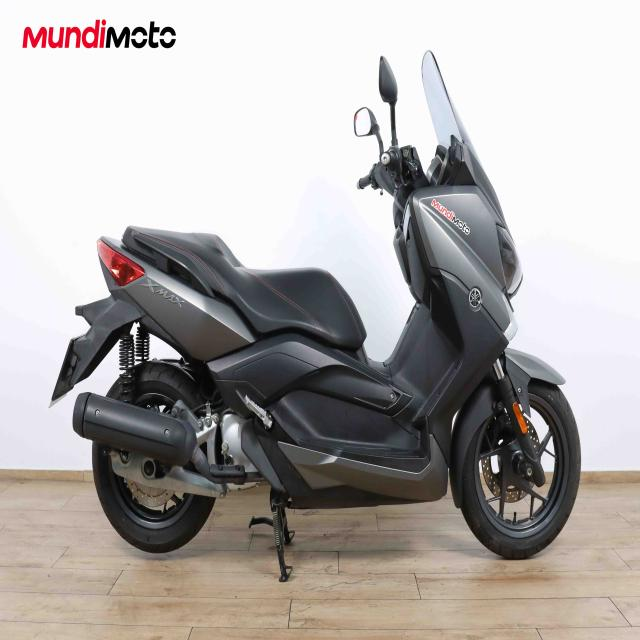Motorcycle: (50, 52, 581, 582)
